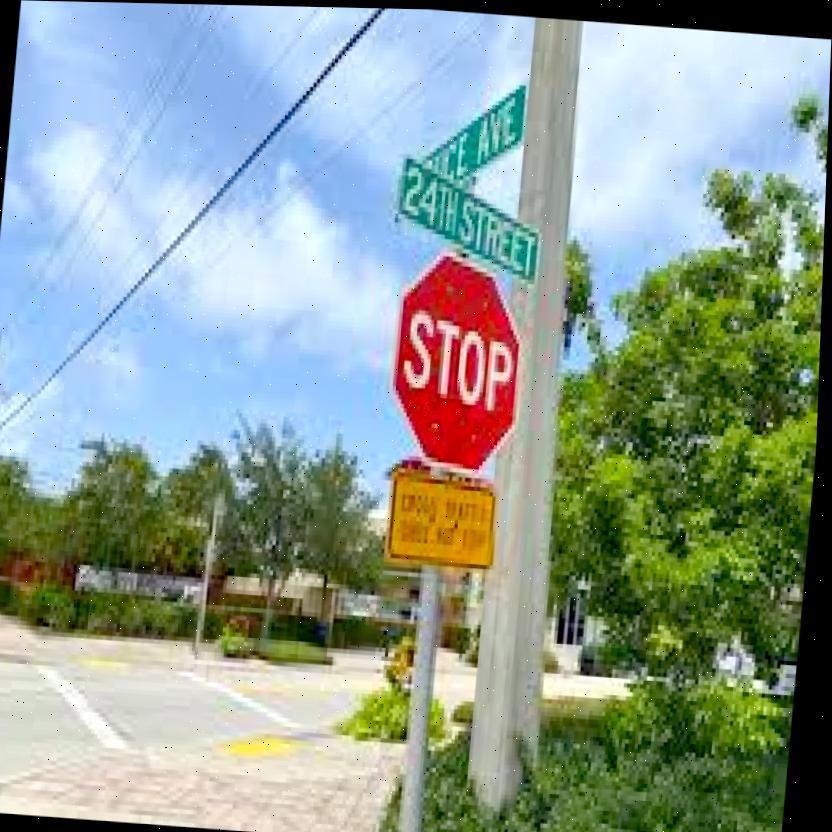Pole: (402, 567, 449, 832), (200, 543, 217, 660)
Sign: (391, 254, 534, 473)
